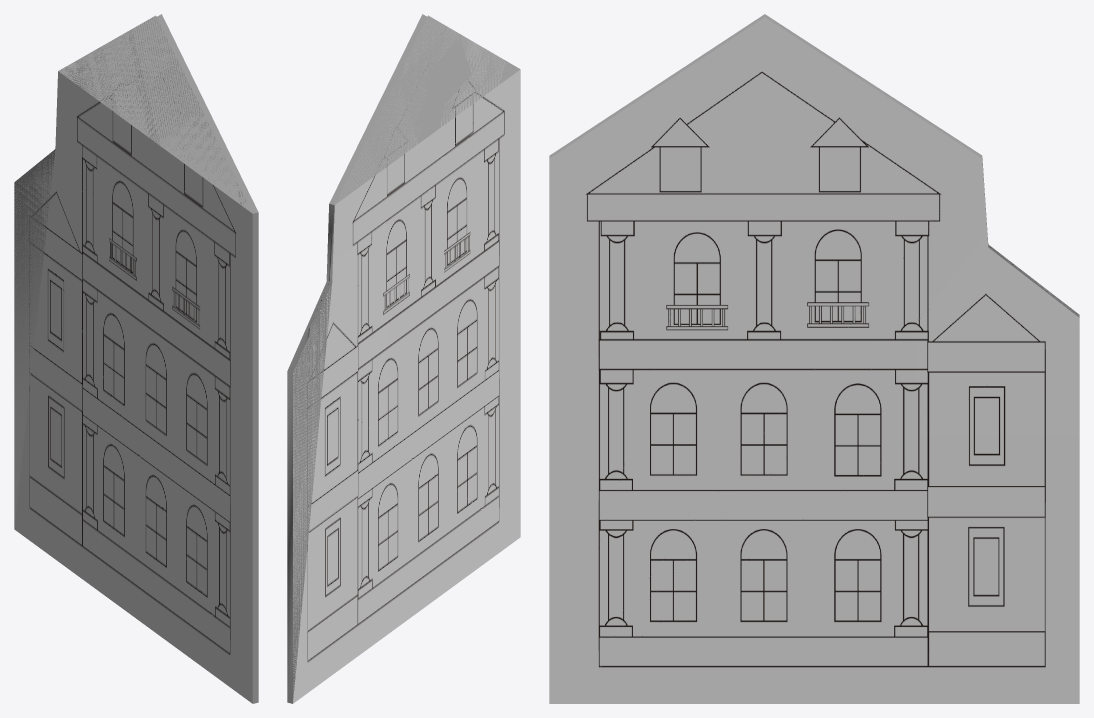
The model's file is house1.fbx.
3 views of the same model, side by side, from view 1: azimuth 30°, elevation 25°; view 2: azimuth 150°, elevation 25°; view 3: azimuth 270°, elevation 25° (orthographic). The views are drawn at different scales.
Parts seen in each view (by area): view 1: pCube1; view 2: pCube1; view 3: pCube1.
Boxes of the visible parts, x1,y1,x2,y2 form: pCube1: [14, 14, 258, 703]; pCube1: [287, 14, 520, 703]; pCube1: [549, 14, 1079, 703].
Size of the model in its own units: 0.1 by 10 by 7.
Materials: 2 (1 with a texture image).
